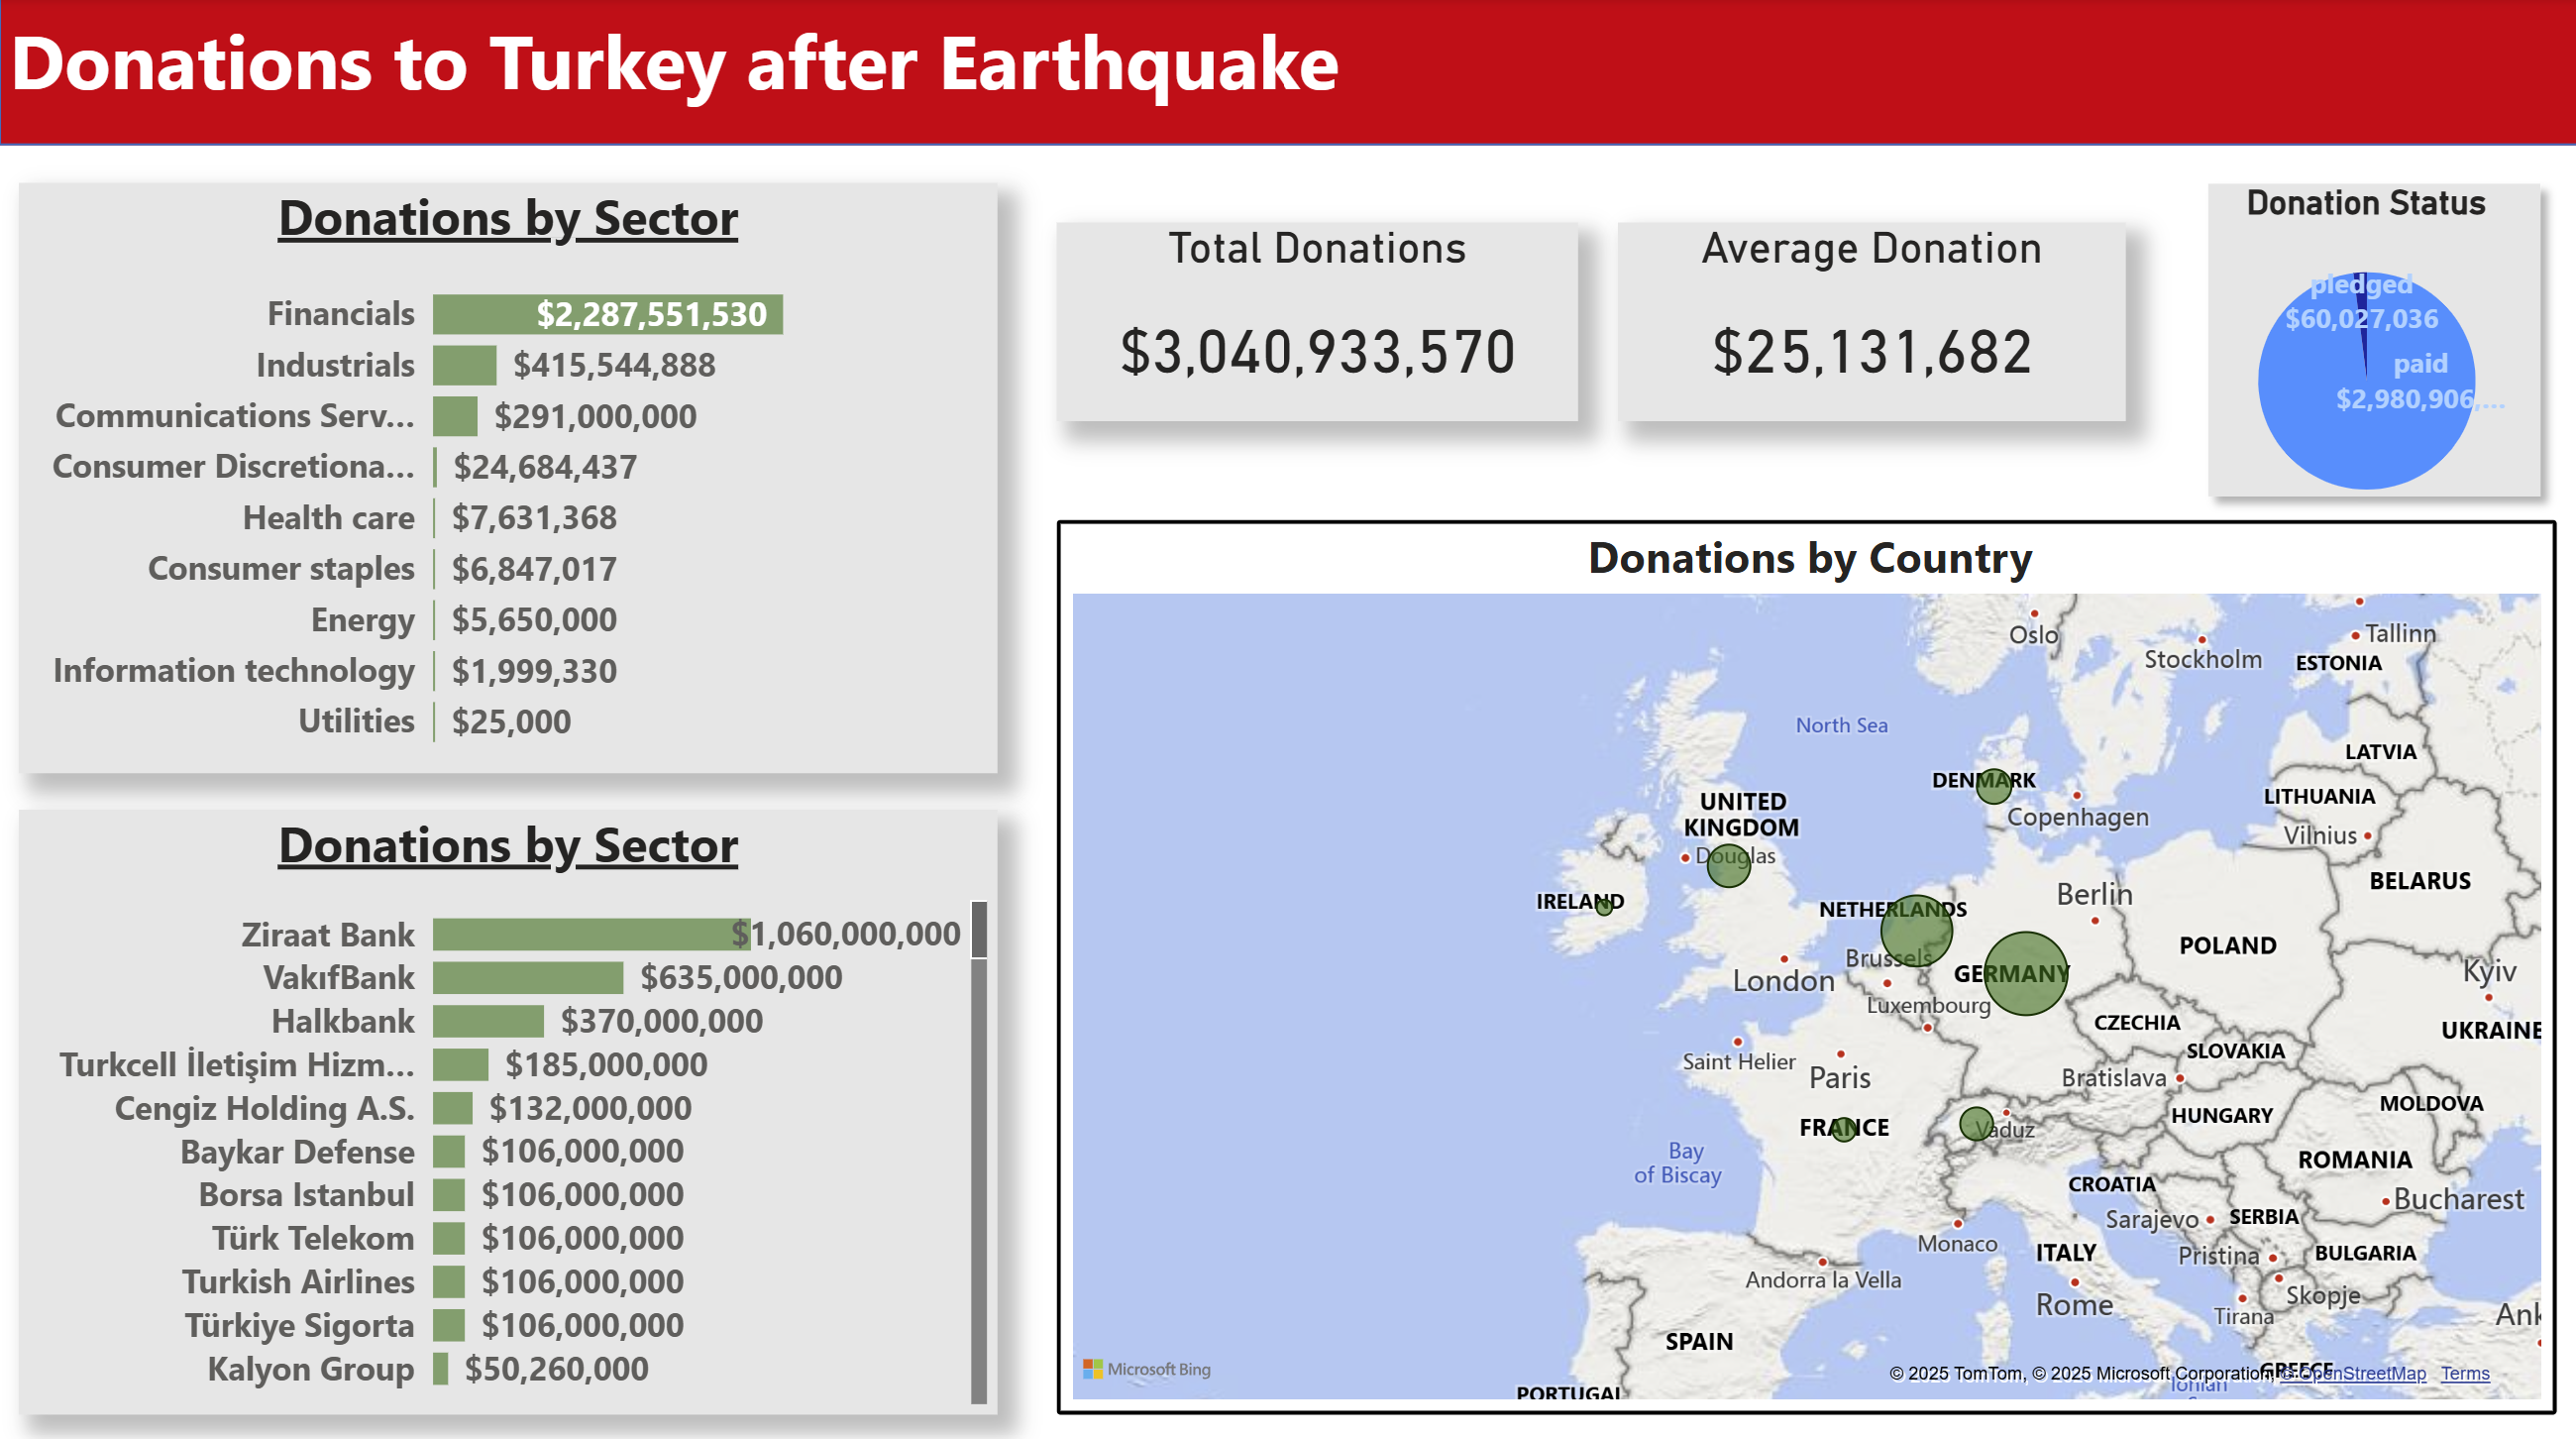

The dashboard page shown, as its layout file describes it:
{"tool":"powerbi","page":{"name":"Earthquake Donations","canvas":[1280,720],"ordinal":1},"visuals":[{"type":"shape","box":[1085.4,83.7,182.5,172.9],"z":0},{"type":"barChart","title":"Donations by Sector","fields":{"Category":["tur-syr-eq-ps-contributions csv.Business sector"],"Y":["Sum(tur-syr-eq-ps-contributions csv.Est USD value)"]},"box":[10.1,92.6,484.6,292.2],"z":1000},{"type":"map","title":"Donations by Country","fields":{"Size":["Sum(tur-syr-eq-ps-contributions csv.Est USD value)"],"Category":["tur-syr-eq-ps-contributions csv.Donor country of registration"]},"box":[524.2,259.3,743.7,443.2],"z":2000},{"type":"shape","box":[0,0,1279.7,73.5],"z":3000},{"type":"card","title":"Total Donations","fields":{"Values":["Sum(tur-syr-eq-ps-contributions csv.Est USD value)"]},"box":[523.7,111.4,259,98.4],"z":4000},{"type":"card","title":"Average Donation","fields":{"Values":["tur-syr-eq-ps-contributions csv.Total Donations"]},"box":[802.9,111.4,251.7,98.4],"z":5000},{"type":"textbox","box":[0,0,731.4,73.4],"z":6000},{"type":"barChart","title":"Donations by Sector","fields":{"Category":["tur-syr-eq-ps-contributions csv.Private sector donor"],"Y":["Sum(tur-syr-eq-ps-contributions csv.Est USD value)"]},"box":[10.1,402.2,484.6,299.5],"z":7000},{"type":"pieChart","title":"Donation Status","fields":{"Category":["tur-syr-eq-ps-contributions csv.Donation status"],"Y":["Sum(tur-syr-eq-ps-contributions csv.Est USD value)"]},"box":[1065.9,91.9,214.1,177],"z":8000}]}

Visuals, with their boxes in screenshot pixels (x1, y1, x2, y2), scaled from the page's 1280x720 canvas onto the 2576x1439 screenshot:
shape: <box>2185,167,2551,512</box>
"Donations by Sector" barChart: <box>21,185,996,769</box>
"Donations by Country" map: <box>1055,518,2551,1404</box>
shape: <box>0,0,2575,147</box>
"Total Donations" card: <box>1054,223,1575,419</box>
"Average Donation" card: <box>1616,223,2122,419</box>
textbox: <box>0,0,1472,147</box>
"Donations by Sector" barChart: <box>21,804,996,1402</box>
"Donation Status" pieChart: <box>2145,183,2575,537</box>
